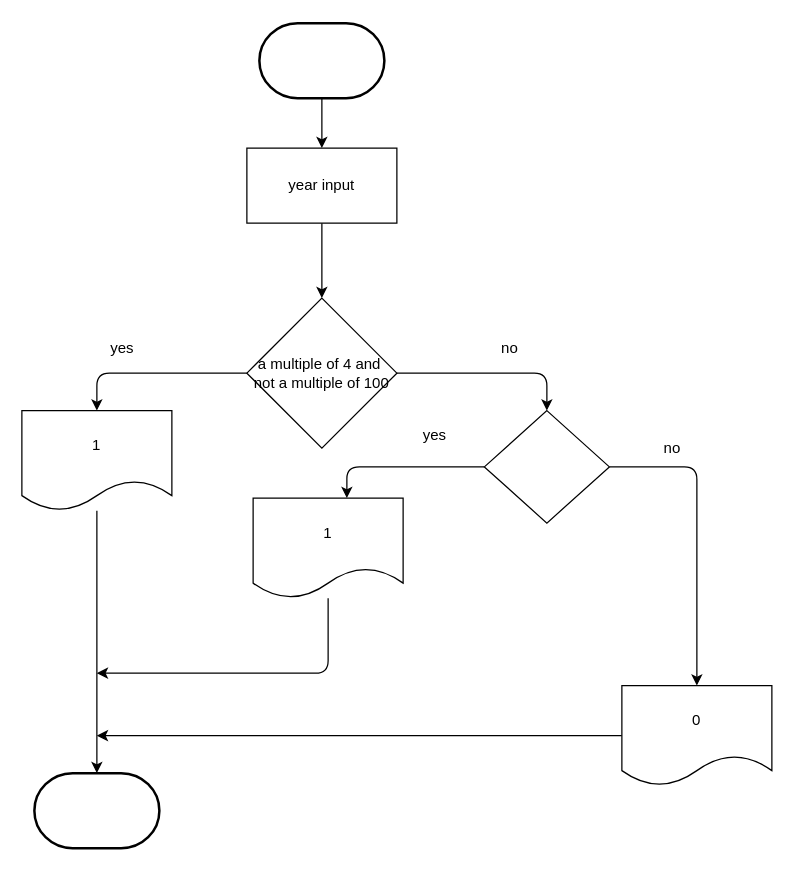
The diagram is 794 pixels wide and 870 high, and some of its shapes have lost their labels. Here are the shapes that lost their labels. From the top down, the centre of each, then its label:
At [321,60]: "start".
At [546,466]: "a mulyiple of 400".
At [96,810]: "finish".
